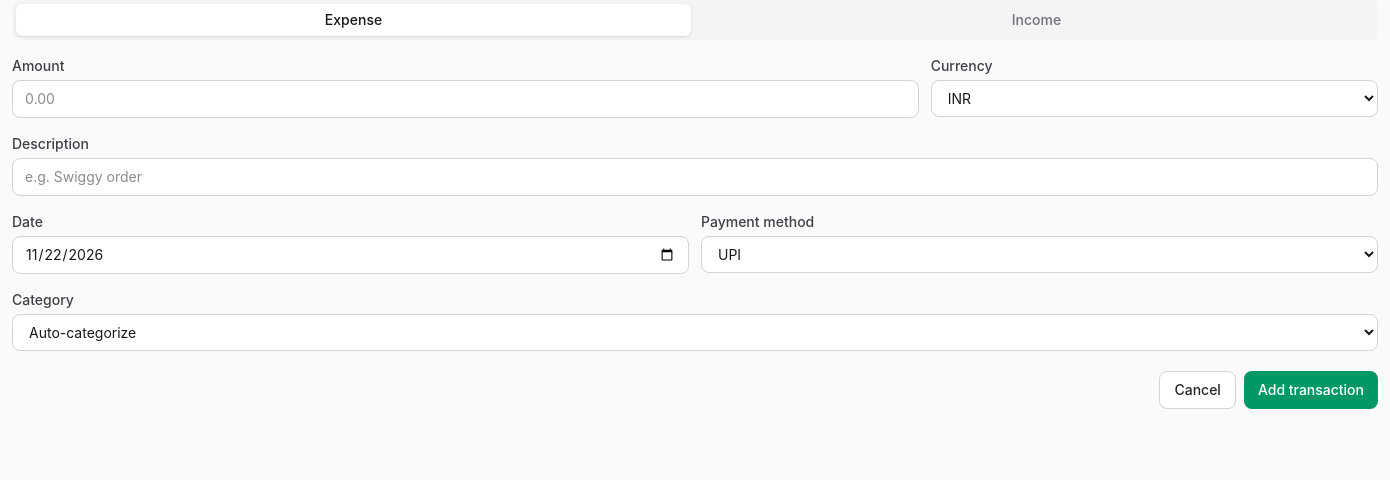
Test: TransactionForm › shows server validation errors and does not close
The image size is (1390, 480).
Type "100" into the field labelled "Amount" at (465, 99), box x1=12 y1=80 x2=919 y2=118
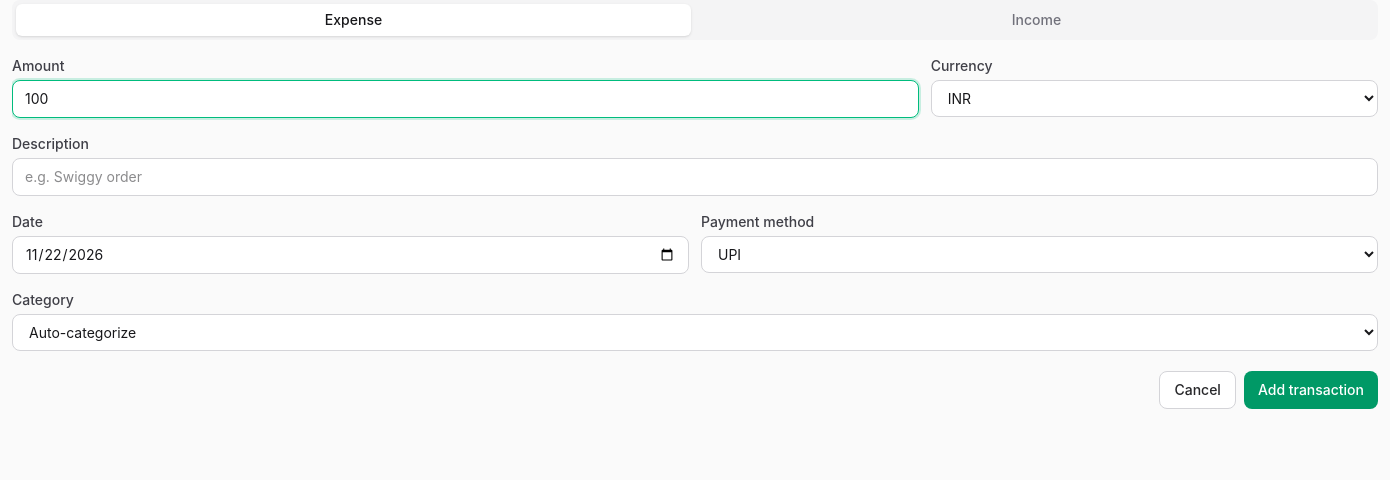
Type "Thing" into the field labelled "Description" at (695, 177), box x1=12 y1=158 x2=1378 y2=196
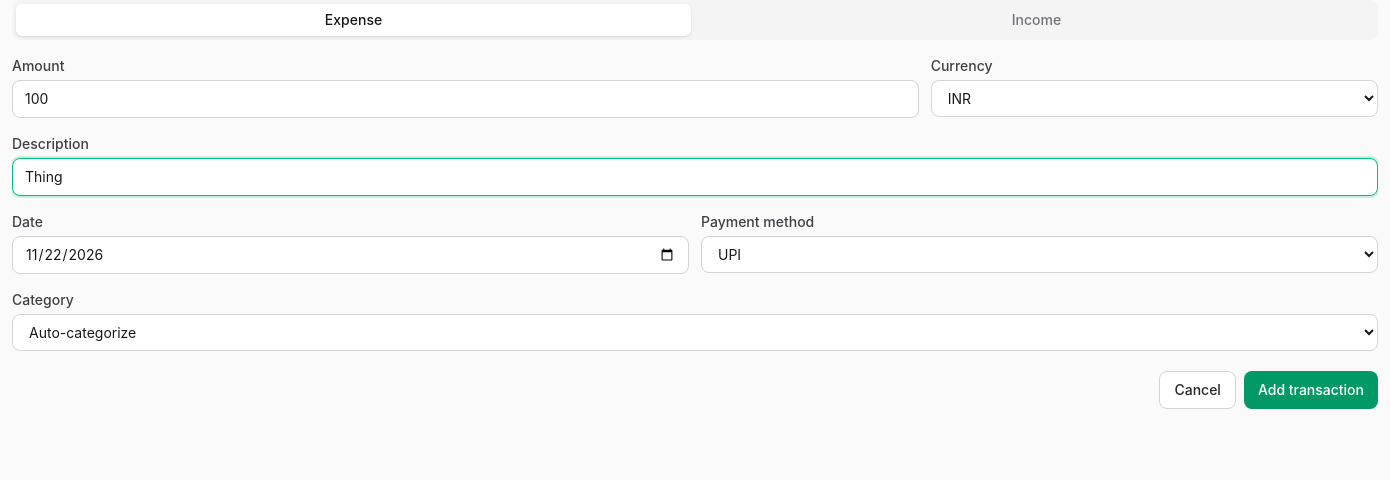
Click the button "Add transaction" at (1311, 390), box x1=1244 y1=371 x2=1378 y2=409
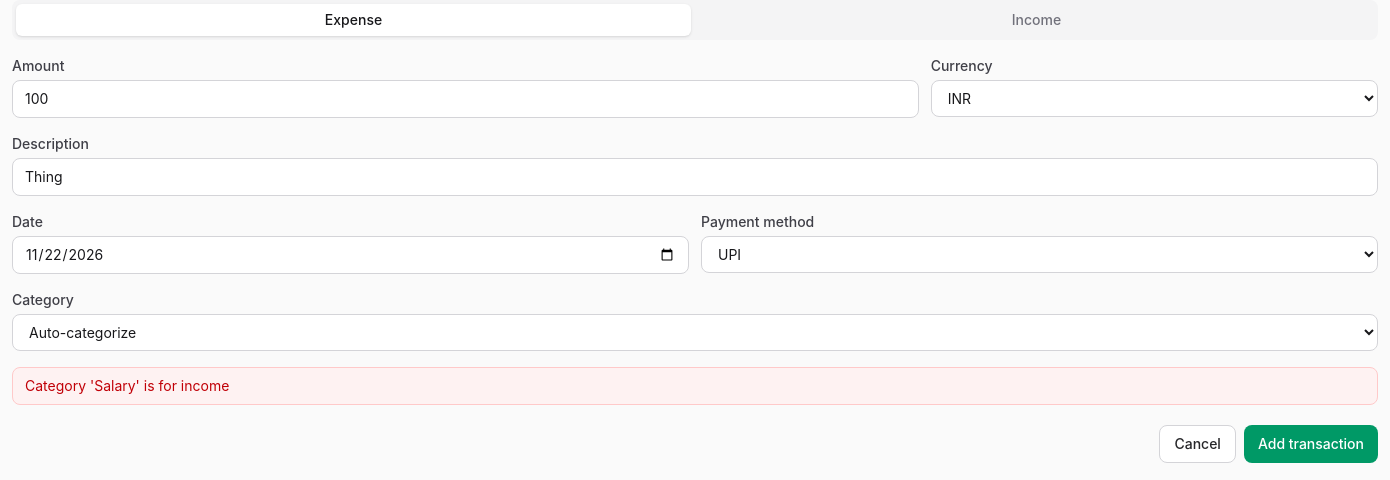
Check: the text "Category 'Salary' is for income" is shown, box x1=12 y1=367 x2=1378 y2=405
